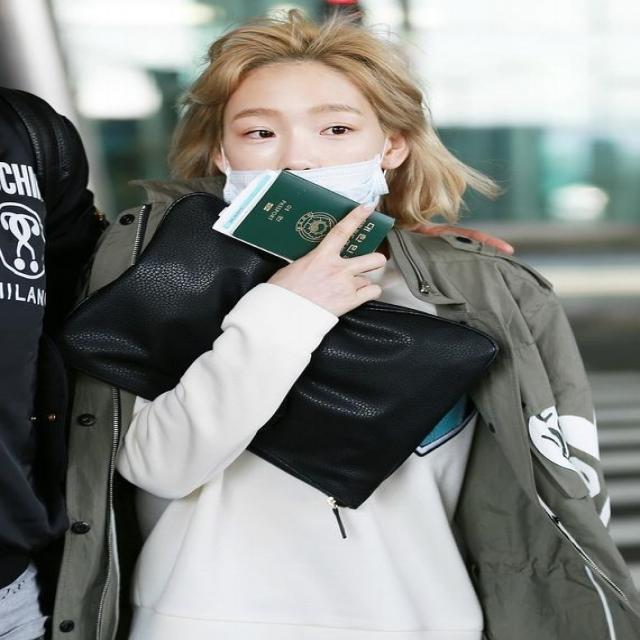mask: (220, 58, 380, 249)
